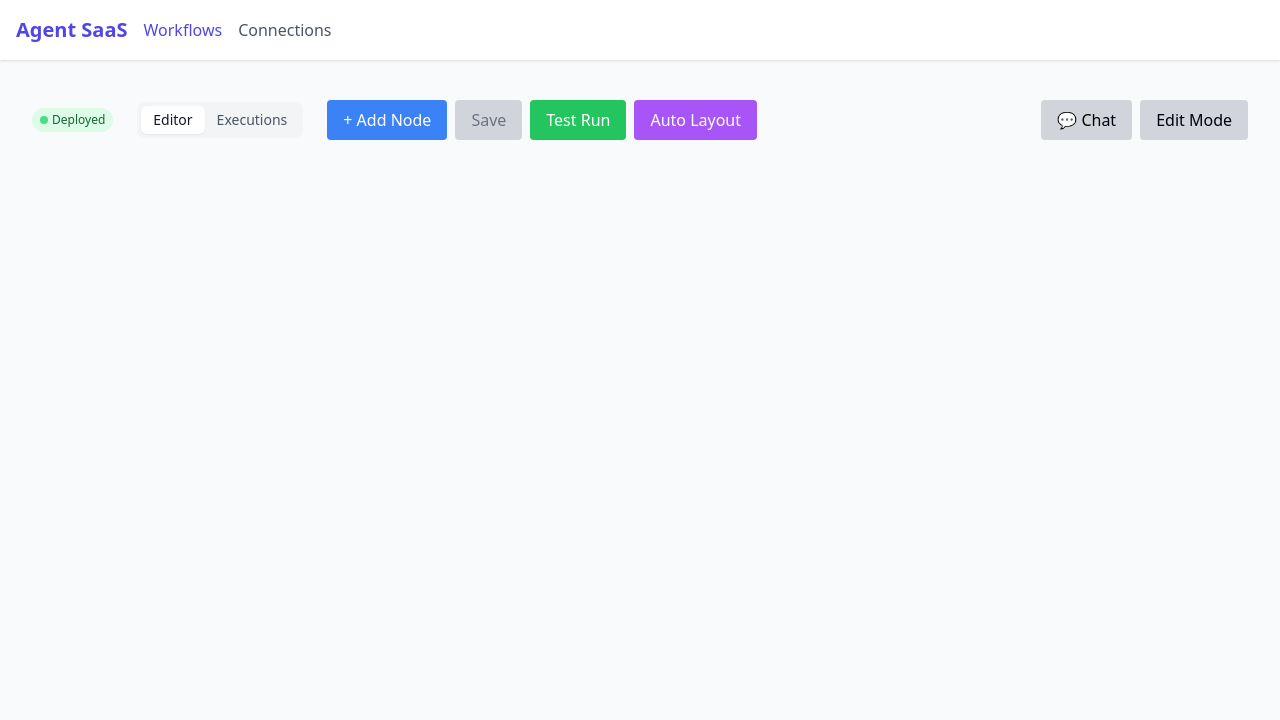
it: Workflow Builder - Realistic Tests › should filter nodes in search
Click the button "+ Add Node": (387, 120) [327,100,447,140]
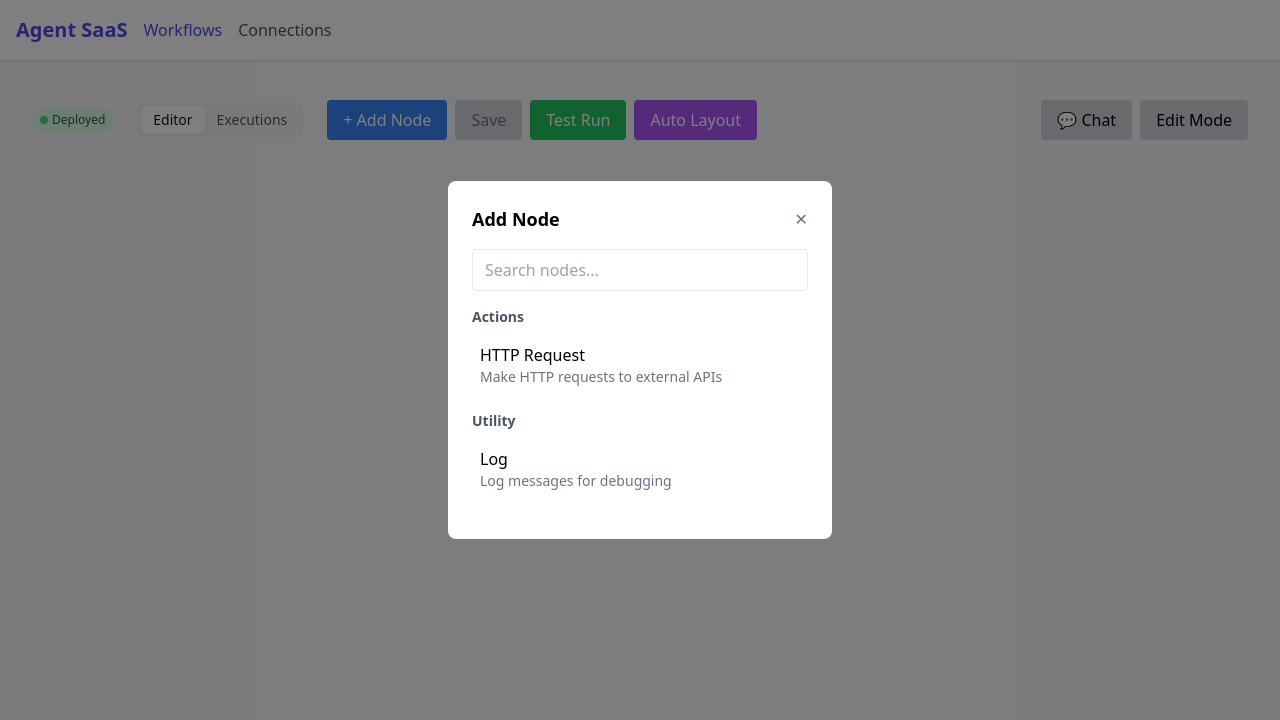
In the field with placeholder "Search nodes...": (640, 270) [472,249,808,291], type "http"
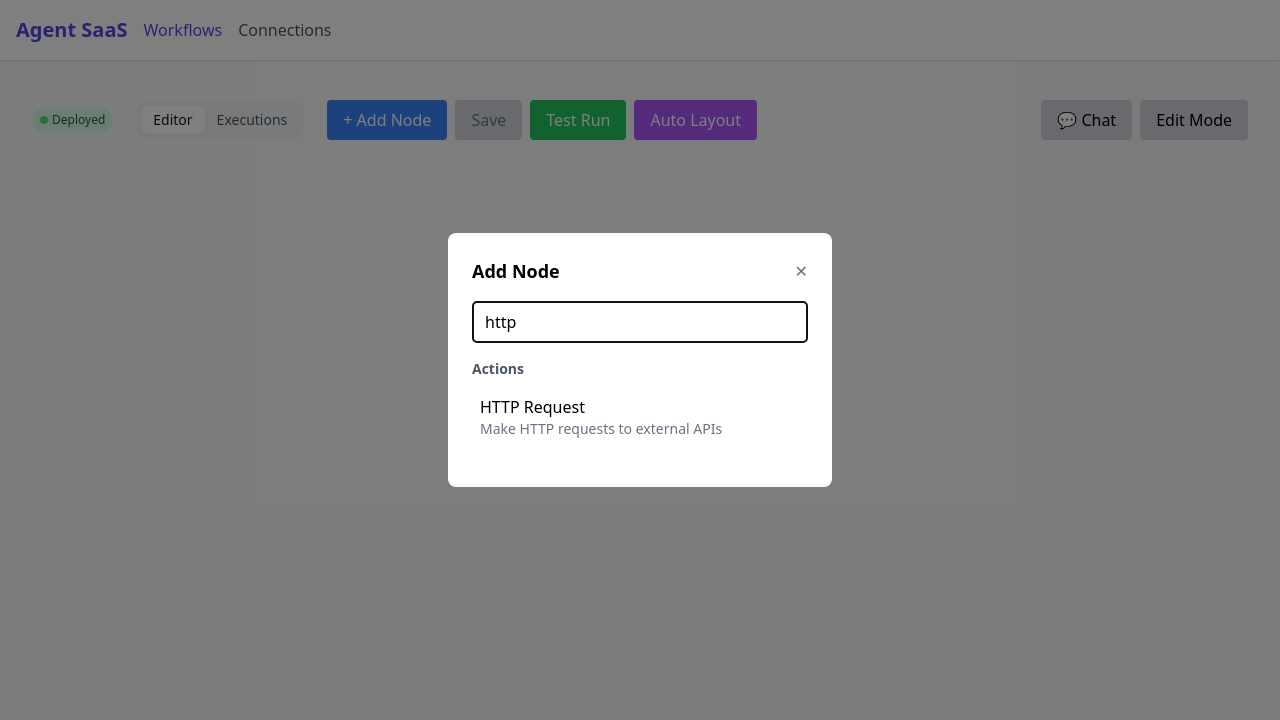
Result: the button "HTTP Request" is shown at [472,387,808,447]
Result: the button "Log" is gone
